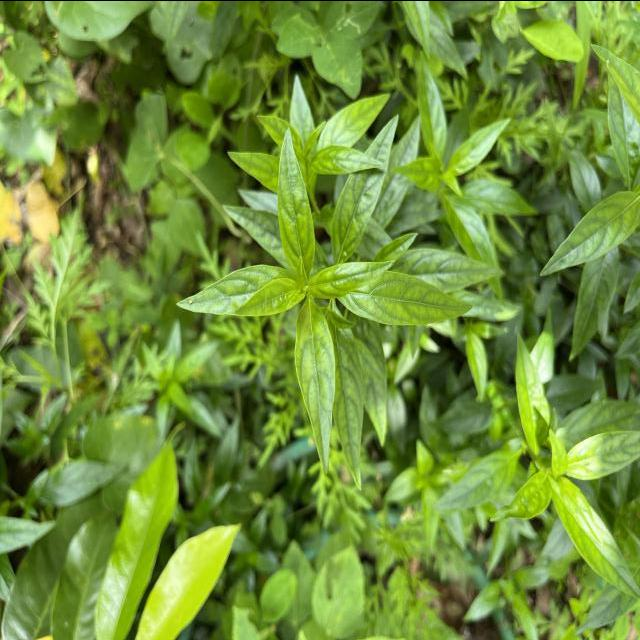Andrographis paniculata: (548, 474, 640, 600), (330, 111, 400, 262), (538, 187, 640, 278), (294, 294, 336, 474), (326, 304, 366, 491), (339, 271, 474, 326), (174, 260, 288, 314), (276, 125, 316, 278), (392, 248, 506, 294), (562, 426, 640, 483), (354, 320, 388, 450), (515, 332, 551, 454), (307, 256, 396, 300), (448, 116, 512, 176), (417, 49, 447, 160), (234, 274, 302, 316), (460, 180, 538, 216), (310, 143, 386, 175)
